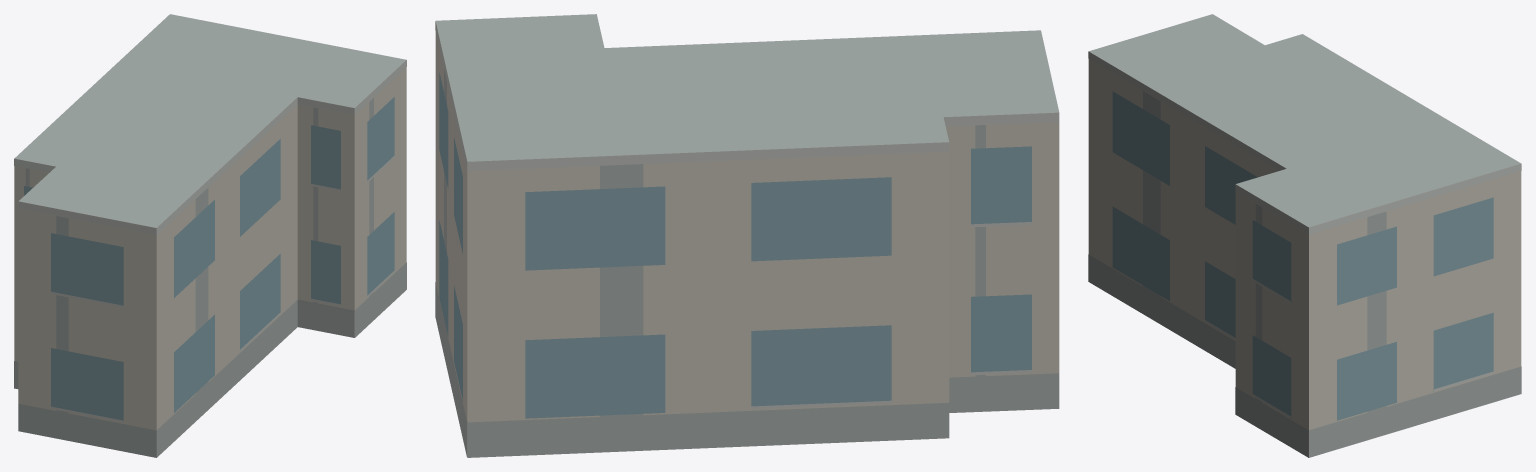
File: residential-3a476aec-8038-4791-b42a-438ebbe66590.glb
3 renders of one model, left to right at view 1: azimuth 30°, elevation 25°; view 2: azimuth 150°, elevation 25°; view 3: azimuth 270°, elevation 25°, orthographic. The views are drawn at different scales.
Parts seen in each view (by area): view 1: residential-3a476aec-8038-4791-b42a-438ebbe66590.tmp; view 2: residential-3a476aec-8038-4791-b42a-438ebbe66590.tmp; view 3: residential-3a476aec-8038-4791-b42a-438ebbe66590.tmp.
Part boxes in pixels (bbox=[...]): residential-3a476aec-8038-4791-b42a-438ebbe66590.tmp: bbox=[14, 14, 406, 457]; residential-3a476aec-8038-4791-b42a-438ebbe66590.tmp: bbox=[435, 14, 1059, 457]; residential-3a476aec-8038-4791-b42a-438ebbe66590.tmp: bbox=[1088, 14, 1521, 457].
Bounding box in the file's own units: 15.27 × 7.68 × 13.09.
